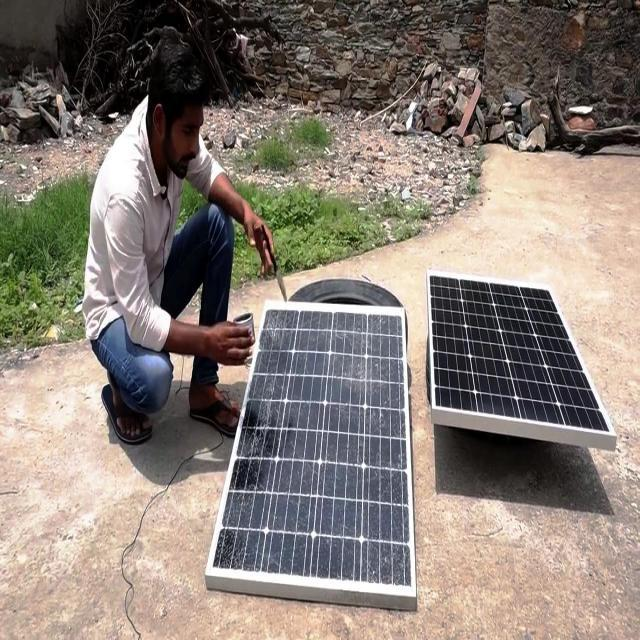faulty: (209, 299, 417, 602)
no faulty: (428, 270, 613, 450)
